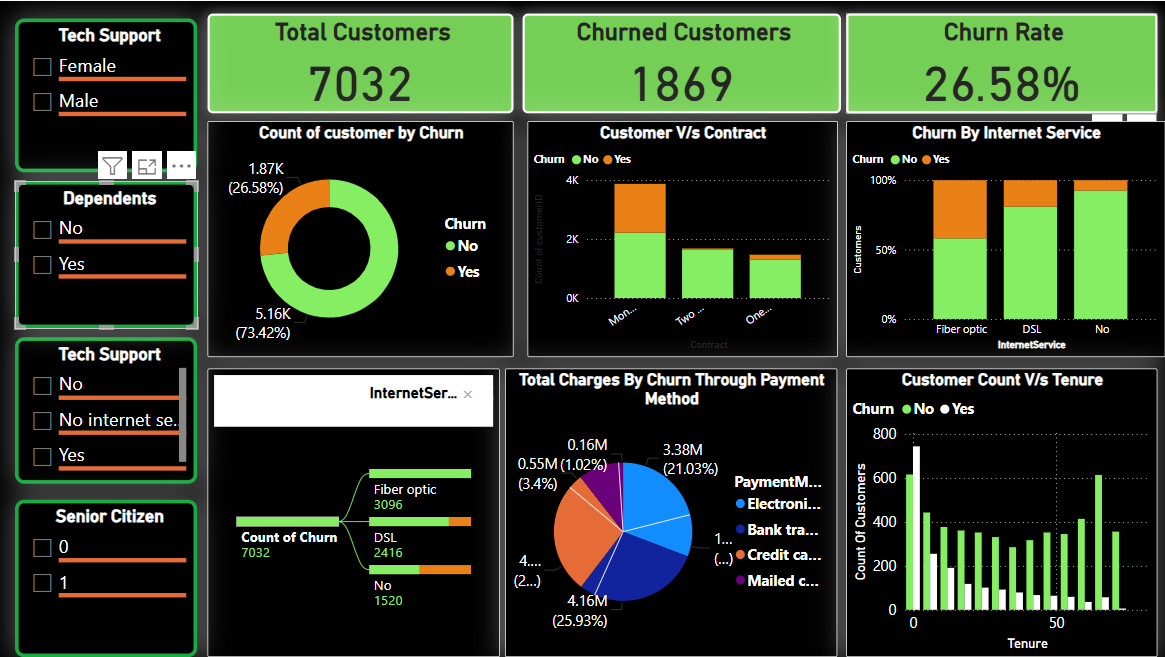

The dashboard page shown, as its layout file describes it:
{"tool":"powerbi","page":{"name":"Page 2","canvas":[1280,720],"ordinal":1},"visuals":[{"type":"card","title":"Total Customers","fields":{"Values":["Count(cleaned_teco_churn.customerID)"]},"box":[228.1,18.5,336.4,96.9],"z":0},{"type":"card","title":"Churned Customers","fields":{"Values":["CountNonNull(cleaned_teco_churn.Churn)"]},"box":[578.7,18.5,340.7,96.9],"z":1000},{"type":"card","title":"Churn Rate","fields":{"Values":["cleaned_teco_churn.Churn Rate"]},"box":[929,19.2,341.7,96.1],"z":2000},{"type":"donutChart","title":"Count of customer by Churn","fields":{"Y":["CountNonNull(cleaned_teco_churn.customerID)"],"Category":["cleaned_teco_churn.Churn"]},"box":[228.1,131.1,336.4,259.4],"z":3000},{"type":"columnChart","title":"Customer V/s  Contract","fields":{"Category":["cleaned_teco_churn.Contract"],"Series":["cleaned_teco_churn.Churn"],"Y":["CountNonNull(cleaned_teco_churn.customerID)"]},"box":[578.7,131.1,340.7,259.4],"z":4000},{"type":"decompositionTreeVisual","title":"Count of customer by Churn","fields":{"Analyze":["CountNonNull(cleaned_teco_churn.Churn)"],"ExplainBy":["cleaned_teco_churn.InternetService","cleaned_teco_churn.Contract","cleaned_teco_churn.PaymentMethod"]},"box":[228.1,403.4,320.7,316.4],"z":5000},{"type":"hundredPercentStackedColumnChart","title":"Churn By Internet Service","fields":{"Category":["cleaned_teco_churn.InternetService"],"Series":["cleaned_teco_churn.Churn"],"Y":["CountNonNull(cleaned_teco_churn.customerID)"]},"box":[929.4,131.1,350.6,259.4],"z":6000},{"type":"pieChart","title":"Total Charges By Churn Through Payment Method","fields":{"Y":["Sum(cleaned_teco_churn.TotalCharges)"],"Category":["cleaned_teco_churn.PaymentMethod"],"Series":["cleaned_teco_churn.Churn"]},"box":[554.5,403.4,364.9,316.4],"z":7000},{"type":"clusteredColumnChart","title":"Customer Count V/s Tenure","fields":{"Category":["cleaned_teco_churn.tenure (bins)"],"Series":["cleaned_teco_churn.Churn"],"Y":["CountNonNull(cleaned_teco_churn.customerID)"]},"box":[929,403.4,341.7,317],"z":8000},{"type":"slicer","title":"Tech Support","fields":{"Values":["cleaned_teco_churn.gender"]},"box":[16.5,19.2,200.3,168.8],"z":8001},{"type":"slicer","title":"Dependents","fields":{"Values":["cleaned_teco_churn.Dependents"]},"box":[16.5,197.6,200.3,161.9],"z":8002},{"type":"slicer","title":"Tech Support","fields":{"Values":["cleaned_teco_churn.TechSupport"]},"box":[16.5,369.1,200.3,160.5],"z":8003},{"type":"slicer","title":"Senior Citizen","fields":{"Values":["cleaned_teco_churn.SeniorCitizen"]},"box":[16.5,547.5,200.3,172.9],"z":8004}]}

Visuals, with their boxes in screenshot pixels (x1, y1, x2, y2), scaled from the page's 1280x720 canvas onto the 1165x657 screenshot:
"Total Customers" card: detection(208, 17, 514, 105)
"Churned Customers" card: detection(527, 17, 837, 105)
"Churn Rate" card: detection(846, 18, 1157, 105)
"Count of customer by Churn" donutChart: detection(208, 120, 514, 356)
"Customer V/s  Contract" columnChart: detection(527, 120, 837, 356)
"Count of customer by Churn" decompositionTreeVisual: detection(208, 368, 499, 656)
"Churn By Internet Service" hundredPercentStackedColumnChart: detection(846, 120, 1164, 356)
"Total Charges By Churn Through Payment Method" pieChart: detection(505, 368, 837, 656)
"Customer Count V/s Tenure" clusteredColumnChart: detection(846, 368, 1157, 656)
"Tech Support" slicer: detection(15, 18, 197, 172)
"Dependents" slicer: detection(15, 180, 197, 328)
"Tech Support" slicer: detection(15, 337, 197, 483)
"Senior Citizen" slicer: detection(15, 500, 197, 656)
